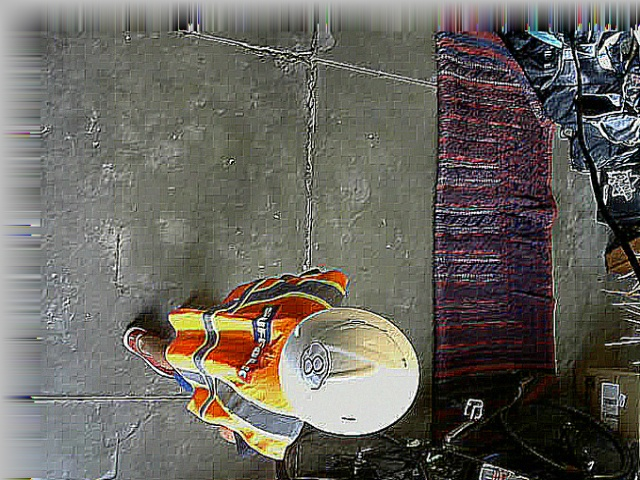eight: (299, 341, 329, 391)
